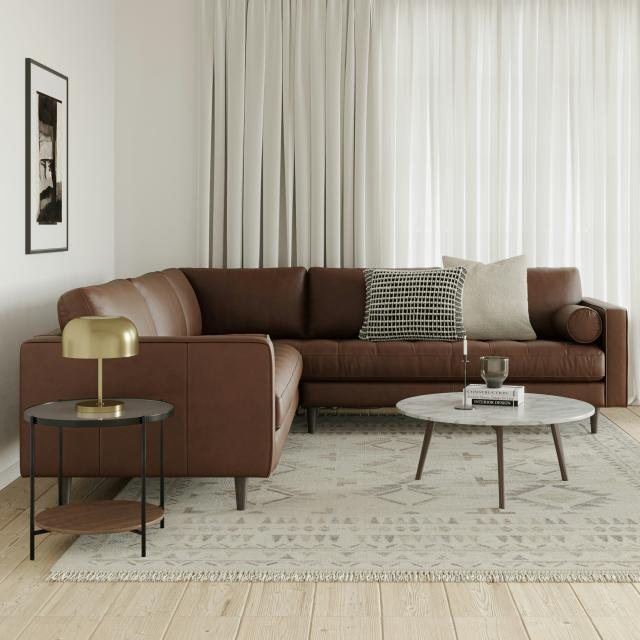sofa: (18, 261, 628, 508)
